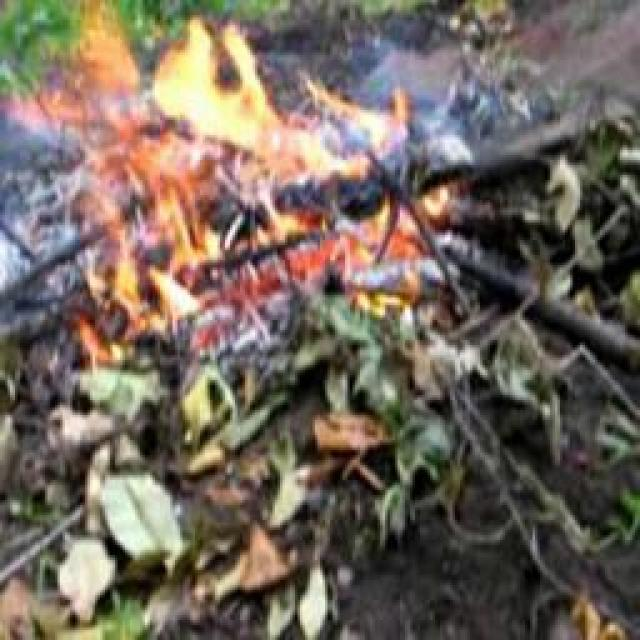Fire: (42, 11, 456, 286)
